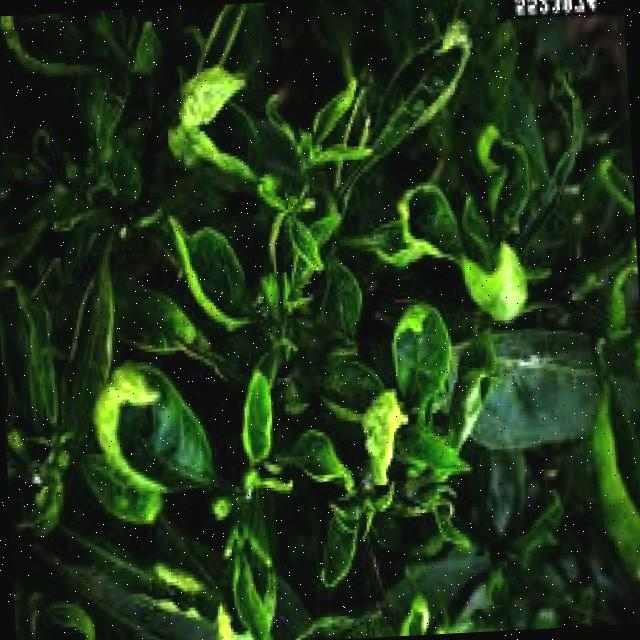leaf curl: (308, 162, 558, 576), (58, 226, 300, 594), (132, 28, 296, 209), (310, 8, 509, 144)
